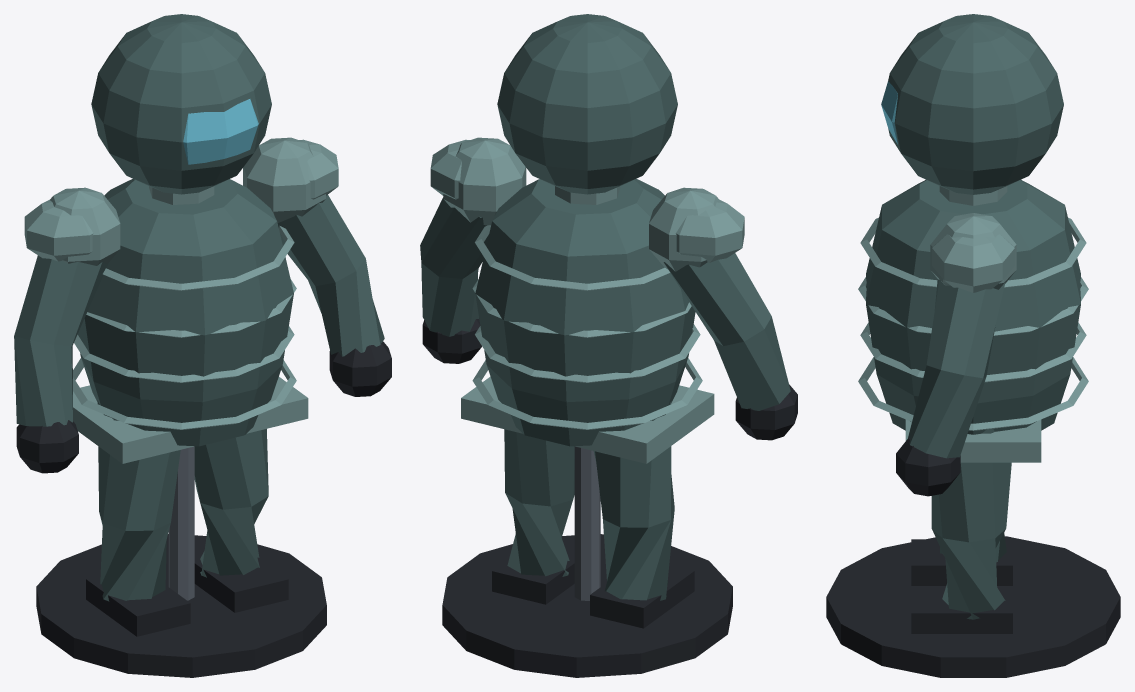
File: duravlex-fiber-armor.glb
The picture shows the model from 3 angles, left to right: view 1: azimuth 30°, elevation 25°; view 2: azimuth 150°, elevation 25°; view 3: azimuth 270°, elevation 25°; orthographic projection.
Visible parts, largest first — view 1: m; view 2: m; view 3: m.
Part boxes in pixels (bbox=[...]): m: bbox=[14, 14, 391, 677]; m: bbox=[420, 14, 797, 677]; m: bbox=[826, 14, 1120, 677].
Size of the model in its own units: 0.3641 by 0.56 by 0.251.
